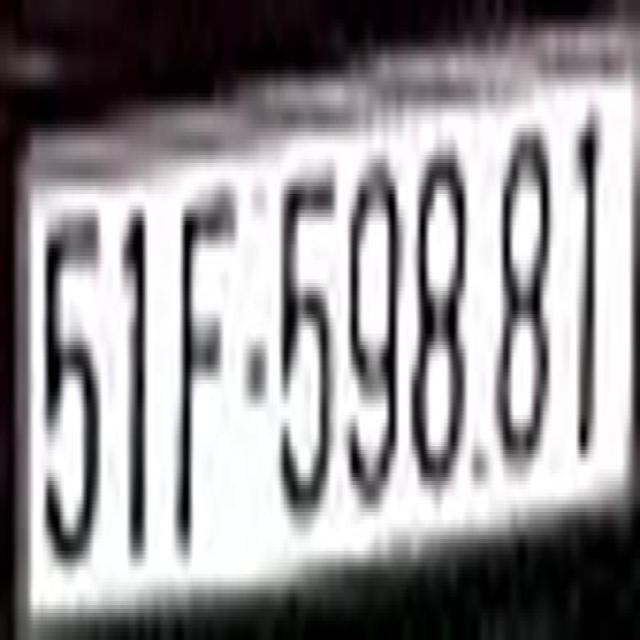1: (119, 192, 150, 564), (570, 101, 600, 465)
5: (41, 190, 103, 570), (278, 161, 337, 522)
8: (496, 114, 550, 472), (412, 138, 466, 490)
9: (347, 149, 399, 510)
F: (176, 173, 238, 556)
